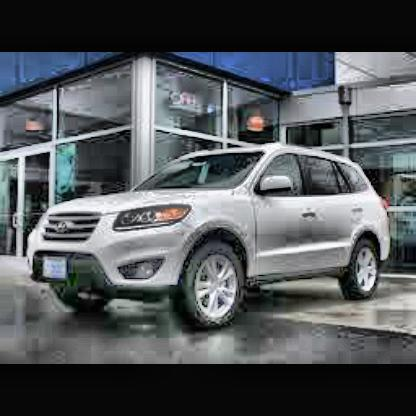Hyundai Santa Fe SUV 2012: (33, 147, 395, 316)
